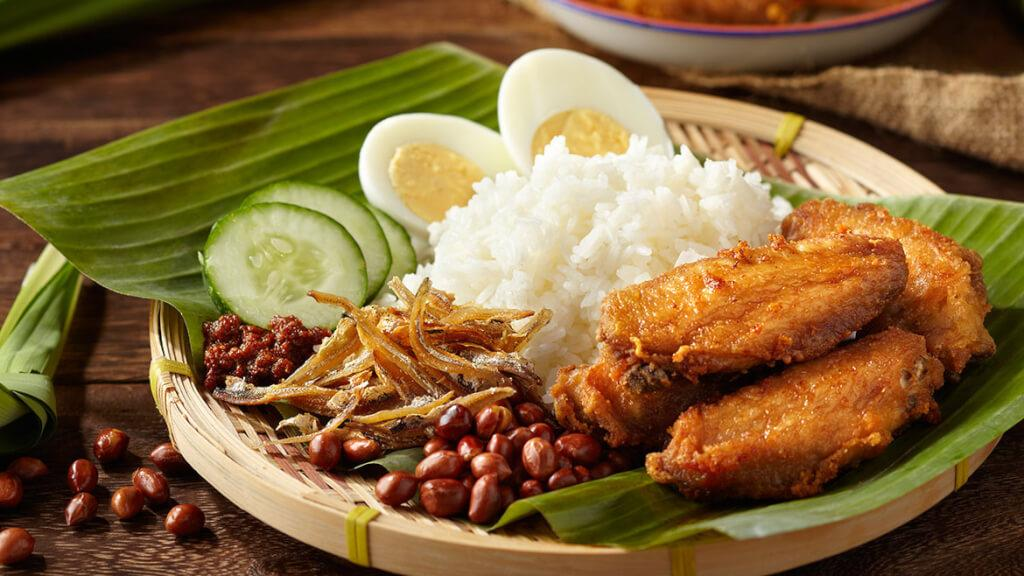Anchovies: (223, 279, 552, 439)
Boiled-Egg: (360, 49, 675, 234)
Cucumber: (204, 186, 411, 328)
Fried-Chicken: (550, 200, 997, 503)
Peanuts: (378, 400, 609, 517), (308, 429, 386, 475)
Rice: (402, 136, 795, 388)
Sambal: (205, 315, 339, 387)
